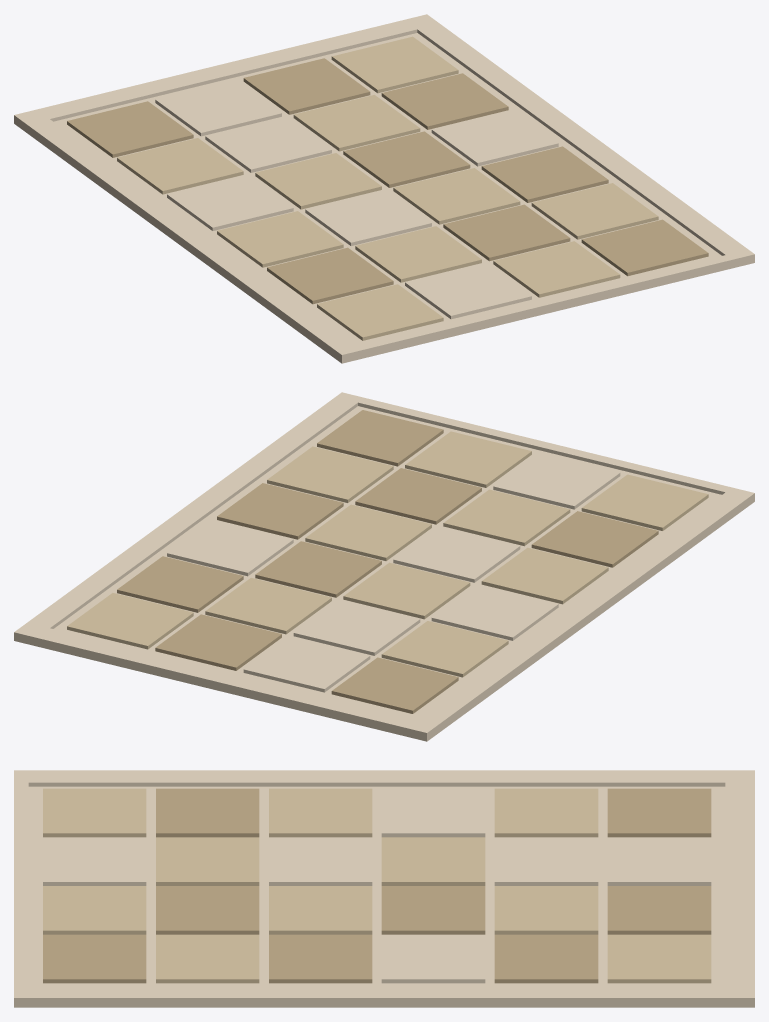
File: piece-patio.glb
3 renders of one model, top to bottom at view 1: azimuth 30°, elevation 25°; view 2: azimuth 150°, elevation 25°; view 3: azimuth 270°, elevation 25°, orthographic. The views are drawn at different scales.
Parts seen in each view (by area): view 1: piece_patio; view 2: piece_patio; view 3: piece_patio.
Boxes of the visible parts, x1,y1,x2,y2 form: piece_patio: (14, 14, 754, 363); piece_patio: (14, 392, 754, 741); piece_patio: (14, 770, 754, 1007).
Size of the model in its own units: 4 by 0.08 by 5.5.
